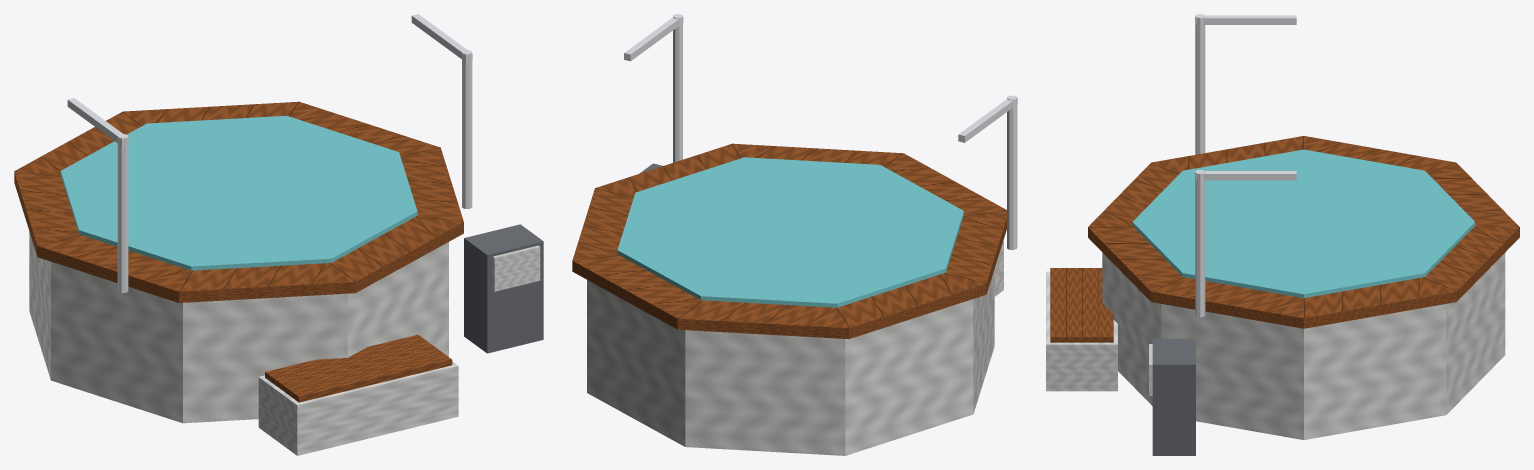
Rendered from cruise-ship-deck-and-lounge-cruise-ship-deck-and-loung-61ec4f0b__38434.glb.
3 views of the same model, side by side, from view 1: azimuth 30°, elevation 25°; view 2: azimuth 150°, elevation 25°; view 3: azimuth 270°, elevation 25° (orthographic). The views are drawn at different scales.
Parts seen in each view (by area): view 1: cruise-ship-deck-and-lounge-hot-tub; view 2: cruise-ship-deck-and-lounge-hot-tub; view 3: cruise-ship-deck-and-lounge-hot-tub.
Boxes of the visible parts, x1=… form: cruise-ship-deck-and-lounge-hot-tub: x1=14, y1=14, x2=543, y2=455; cruise-ship-deck-and-lounge-hot-tub: x1=572, y1=14, x2=1017, y2=455; cruise-ship-deck-and-lounge-hot-tub: x1=1046, y1=14, x2=1519, y2=455.
Size of the model in its own units: 3.16 by 2 by 3.29.
6 materials, 2 textured.
